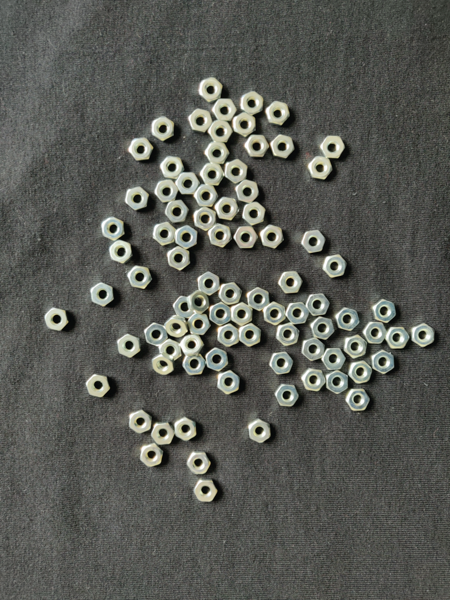nut: (265, 101, 291, 126), (199, 77, 223, 103), (244, 134, 270, 158), (308, 156, 333, 180), (271, 134, 295, 159), (155, 179, 180, 203), (125, 187, 150, 211), (165, 200, 190, 224), (101, 217, 125, 242), (215, 197, 240, 221), (153, 221, 177, 246), (209, 223, 233, 248), (301, 230, 326, 254), (145, 322, 169, 347), (348, 360, 373, 384), (140, 443, 164, 468), (212, 99, 238, 122), (128, 138, 154, 161), (175, 172, 201, 195), (194, 479, 220, 502), (240, 92, 264, 116), (321, 135, 345, 159), (260, 225, 284, 249), (167, 247, 191, 271), (117, 334, 141, 358), (336, 307, 360, 331), (276, 323, 300, 347), (344, 335, 368, 359), (233, 112, 256, 137), (225, 159, 248, 184), (200, 163, 225, 186), (194, 184, 219, 207), (243, 202, 266, 227), (175, 225, 198, 250), (110, 240, 133, 265), (128, 266, 153, 289), (91, 282, 114, 307), (198, 271, 221, 296), (187, 290, 210, 315), (164, 315, 189, 338), (86, 375, 111, 398), (412, 323, 435, 348), (326, 370, 349, 395), (302, 369, 327, 392), (275, 384, 300, 407), (218, 370, 241, 395), (129, 409, 152, 434), (187, 452, 212, 475), (152, 116, 174, 142), (189, 109, 212, 133), (161, 156, 184, 180), (235, 180, 259, 203), (194, 208, 217, 232), (45, 308, 69, 331), (323, 255, 347, 278), (219, 282, 243, 305), (373, 300, 397, 323), (311, 317, 335, 340), (372, 350, 395, 374), (302, 338, 325, 362), (270, 352, 294, 375), (206, 348, 229, 372), (151, 422, 175, 445), (208, 121, 233, 143), (205, 142, 230, 164), (234, 227, 259, 249), (278, 272, 303, 294), (248, 287, 270, 312), (363, 322, 388, 344), (180, 335, 205, 357), (175, 417, 197, 442), (210, 302, 232, 326), (187, 314, 211, 336), (386, 327, 410, 349), (306, 294, 330, 316), (265, 302, 287, 326), (286, 302, 310, 324), (239, 323, 261, 347), (322, 348, 346, 370), (346, 389, 370, 411), (249, 419, 271, 443), (173, 296, 195, 319), (159, 339, 182, 361), (152, 353, 175, 375), (232, 303, 253, 327), (218, 324, 239, 347), (183, 354, 206, 375)
